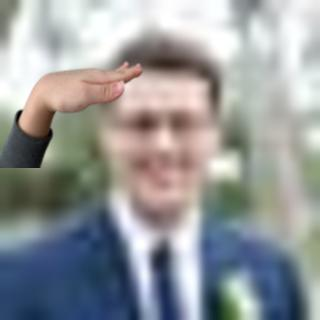Wait: (10, 52, 145, 132)
